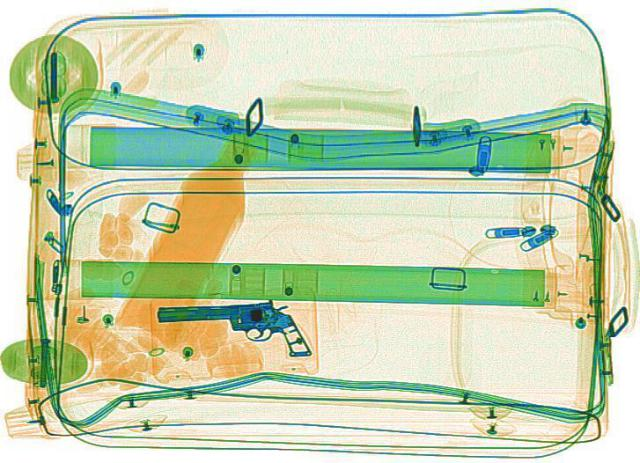Gun: (150, 299, 316, 360)
